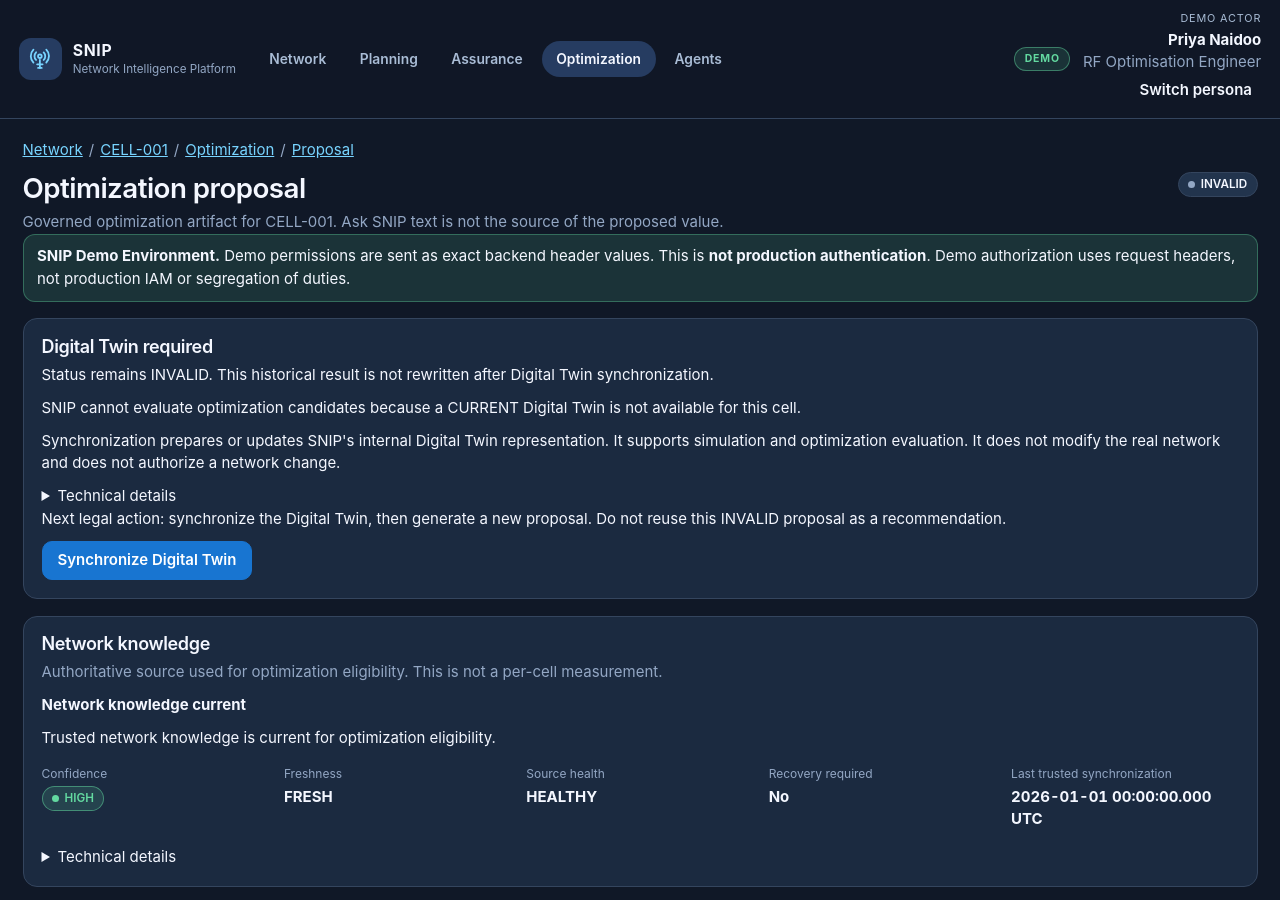
Increment 3 operator workspace › shows the real backend result when Digital Twin synchronization fails
Click the button "Synchronize Digital Twin" at x=147, y=560, box x1=42 y1=541 x2=252 y2=580
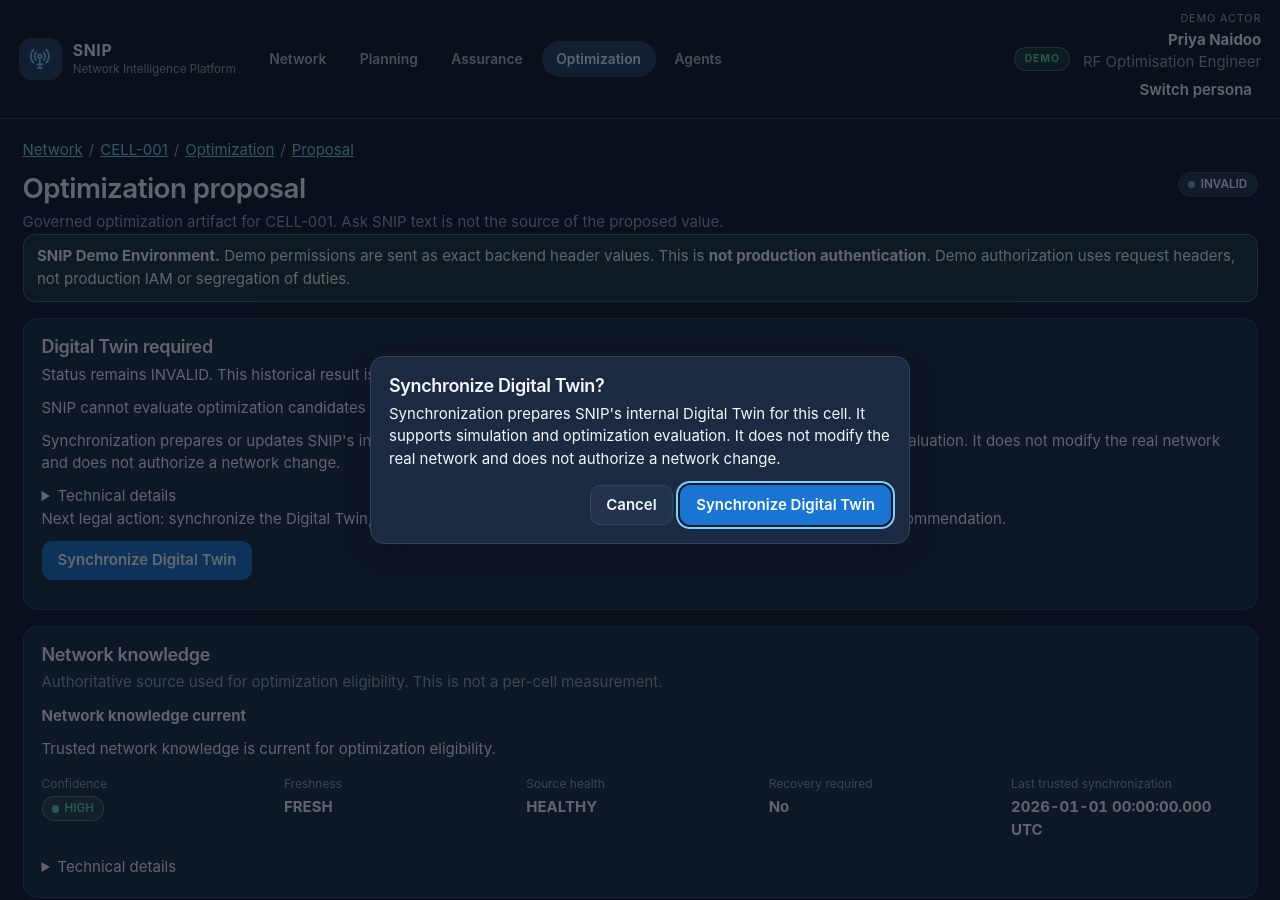
Click the button "Synchronize Digital Twin" at x=786, y=505, box x1=680 y1=485 x2=891 y2=525
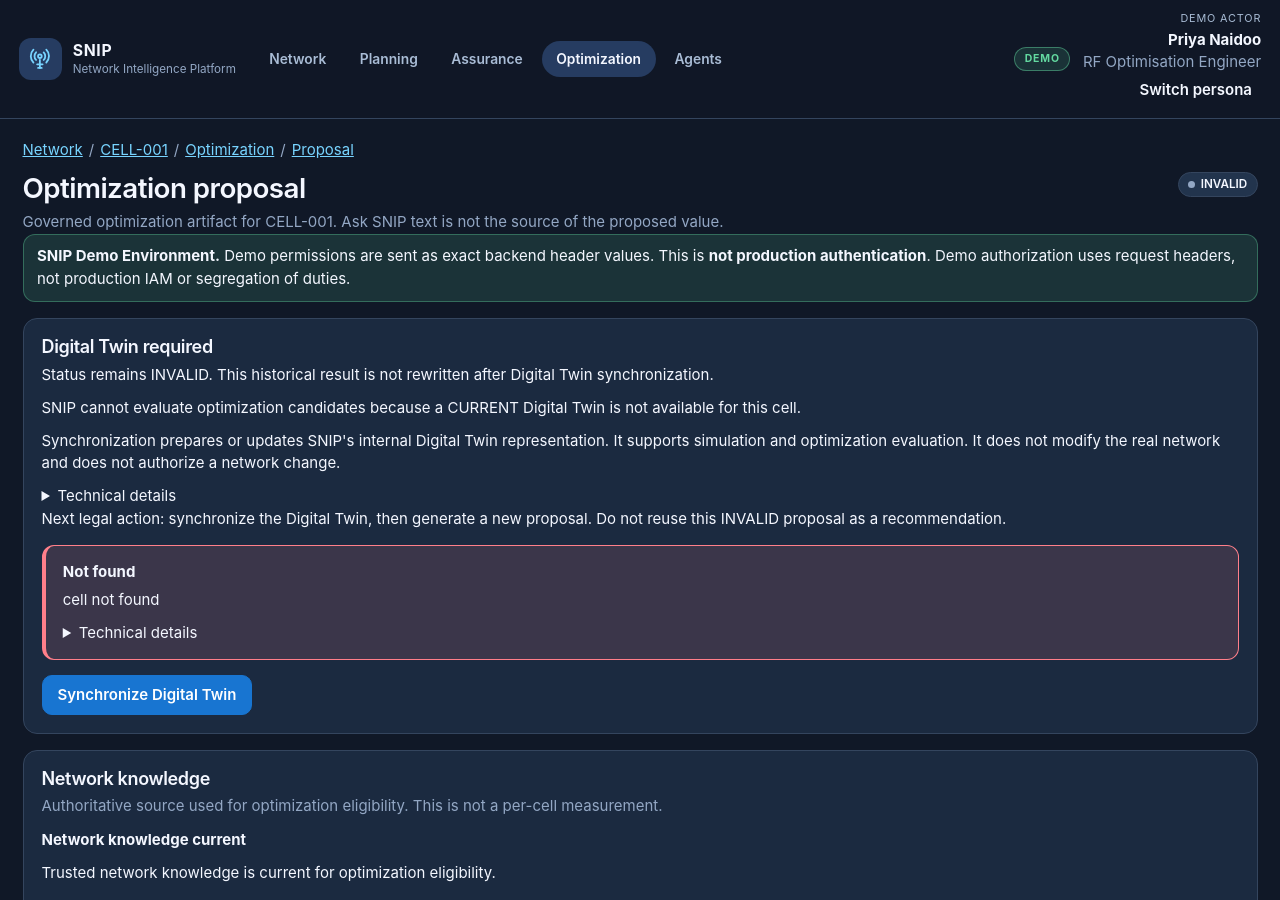
Expected: the heading "Digital Twin required" is shown, x1=42 y1=336 x2=213 y2=357
Expected: the text "cell not found" is shown, x1=63 y1=590 x2=160 y2=609
